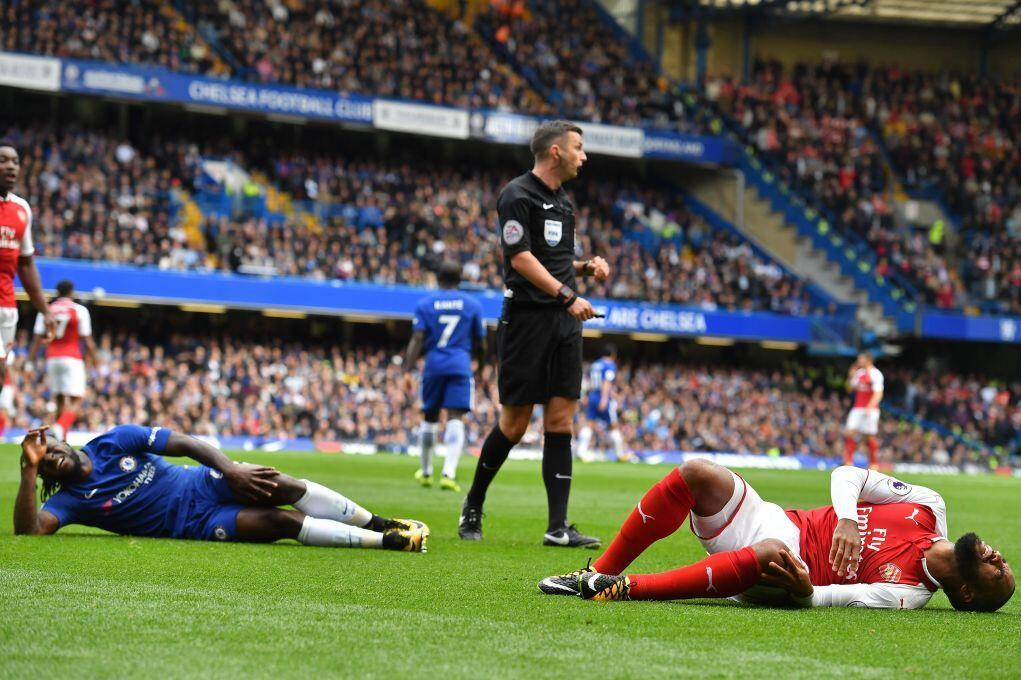down: (525, 449, 1021, 615), (14, 410, 445, 565)
up: (458, 115, 611, 561), (399, 249, 486, 490)
